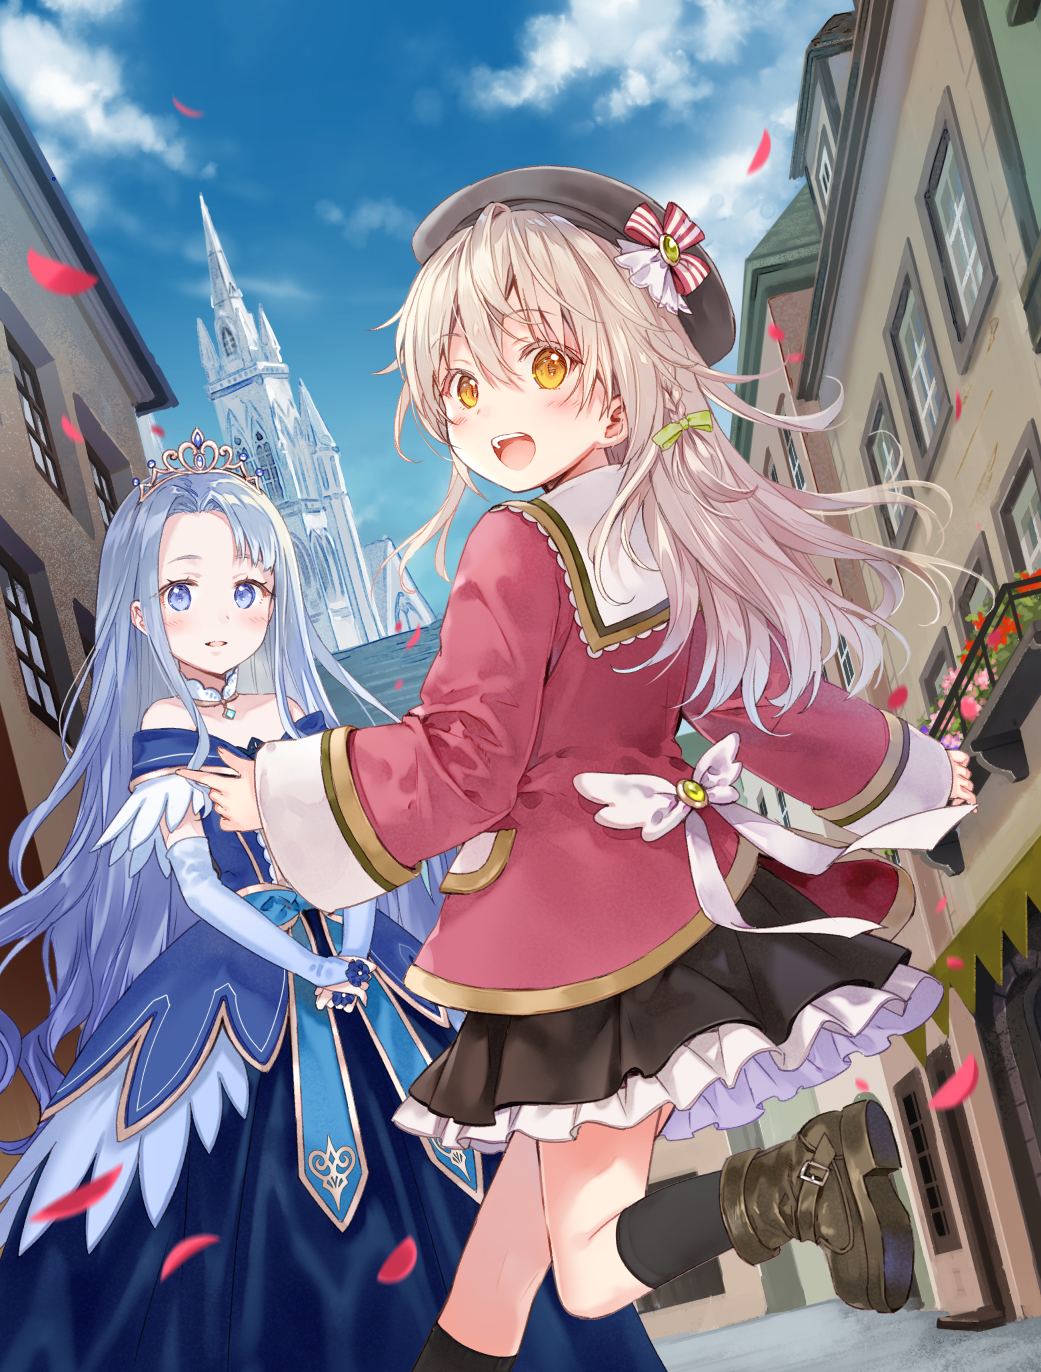纸片人正脸: (377, 166, 730, 502), (98, 436, 294, 692)
